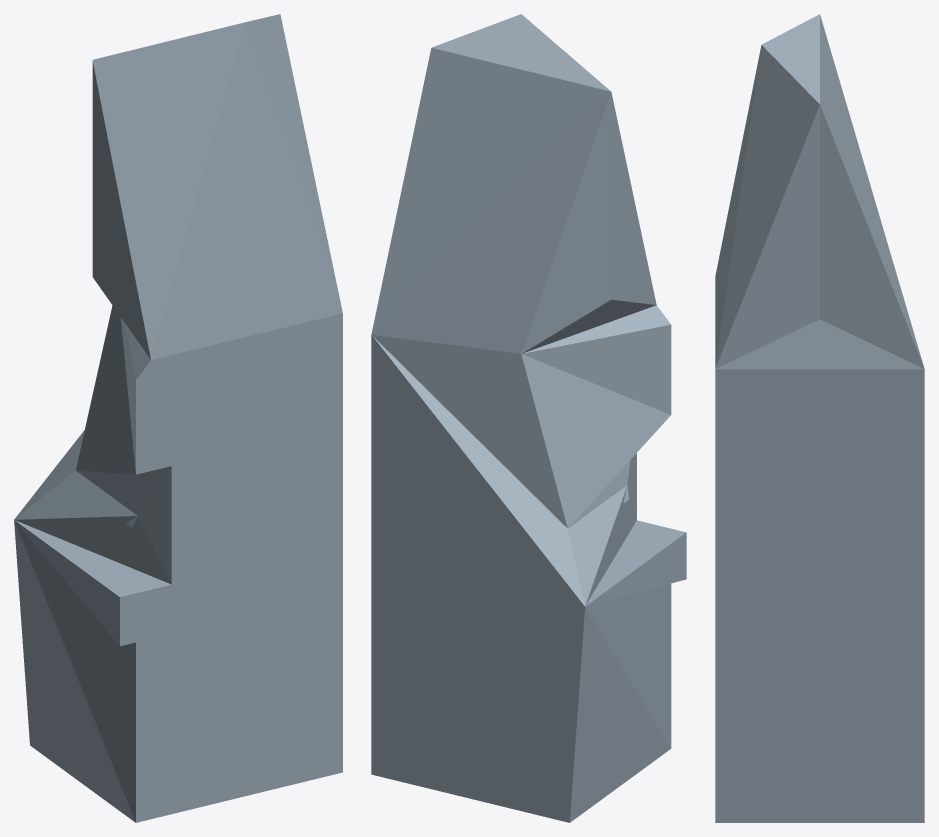
The model's file is ss-water-cooler.lod2.glb.
3 renders of one model, left to right at view 1: azimuth 30°, elevation 25°; view 2: azimuth 150°, elevation 25°; view 3: azimuth 270°, elevation 25°, orthographic. The views are drawn at different scales.
Parts seen in each view (by area): view 1: Mesh22_Color_M00_0; view 2: Mesh22_Color_M00_0; view 3: Mesh22_Color_M00_0.
Part boxes in pixels (x1=…): Mesh22_Color_M00_0: x1=14, y1=14, x2=342, y2=822; Mesh22_Color_M00_0: x1=371, y1=14, x2=686, y2=822; Mesh22_Color_M00_0: x1=715, y1=14, x2=924, y2=822.
Size of the model in its own units: 0.5278 by 1.7 by 0.4342.
